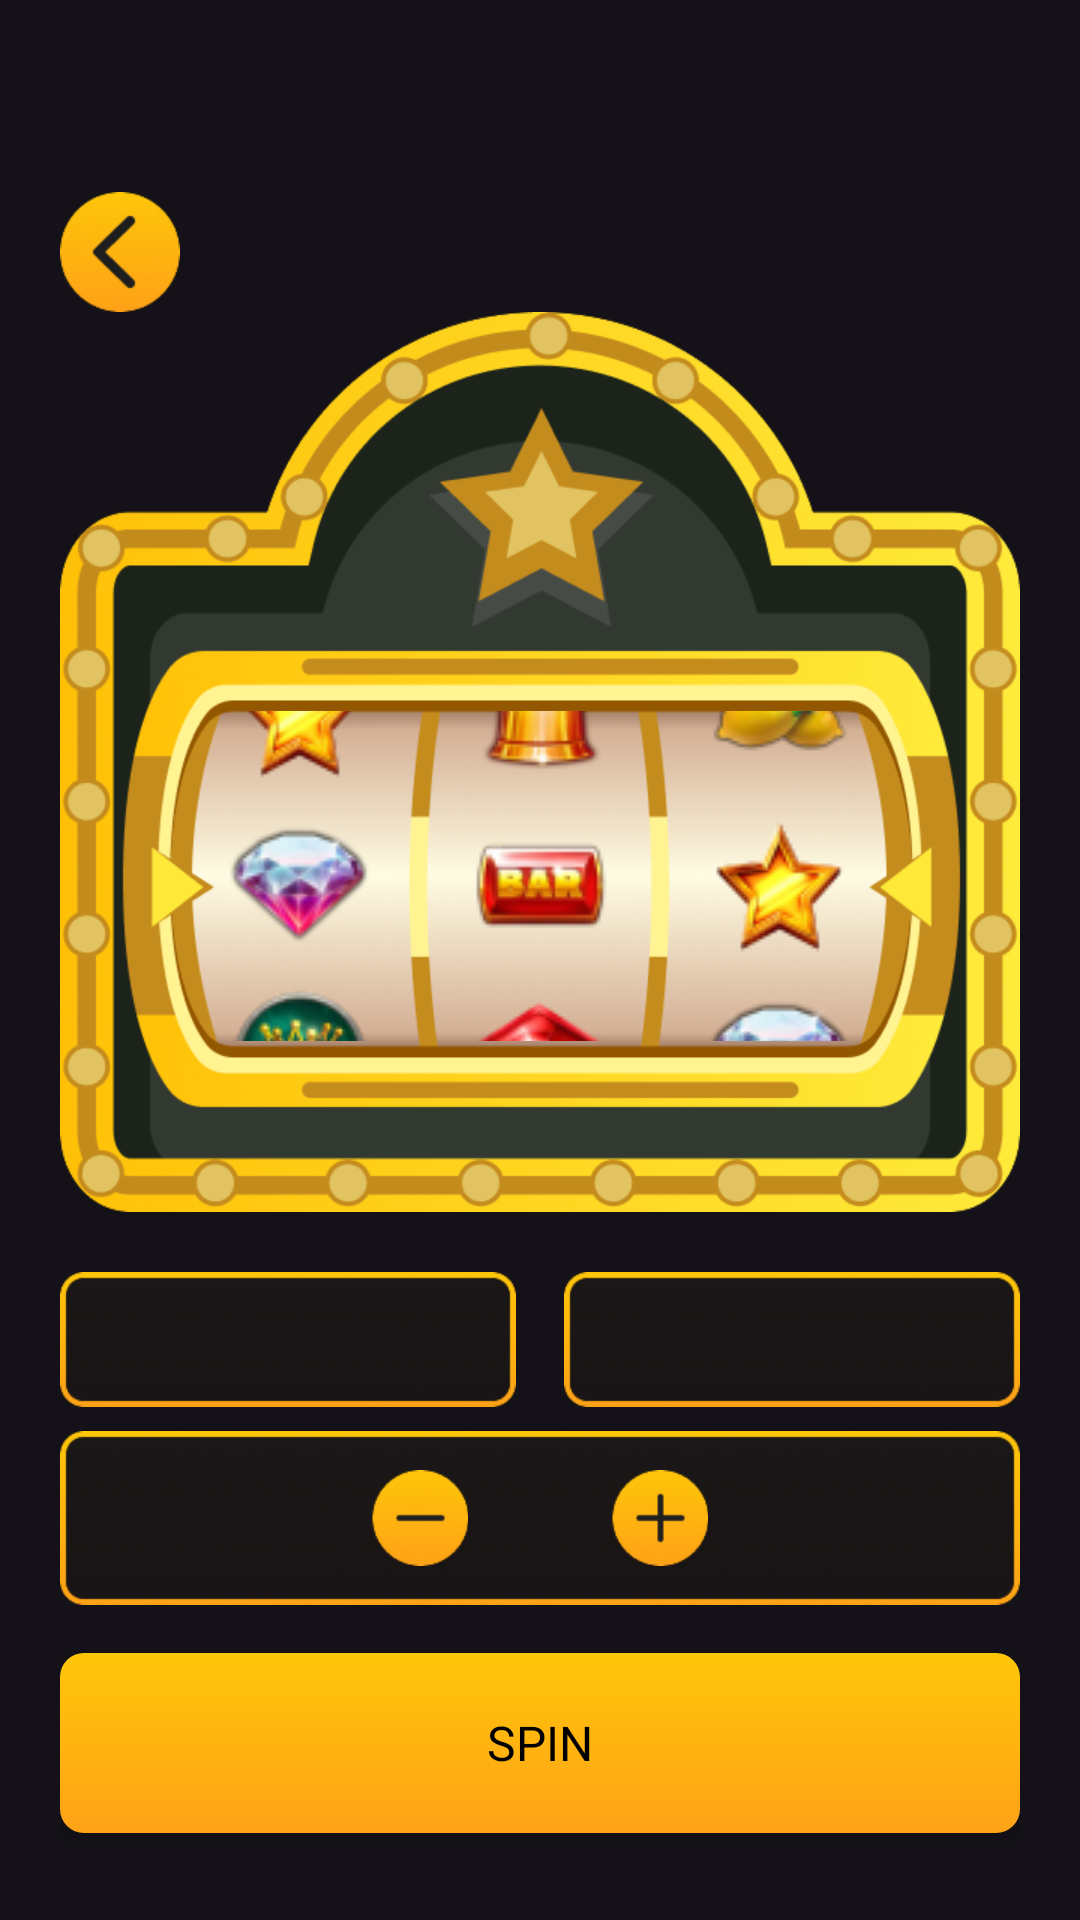

Icon bounding boxes for this 1080x1920 phone screenshot, format (x1, y1, x2, y2):
butt minus: (372, 1470, 468, 1566)
butt plus: (612, 1470, 708, 1566)
ripple butt back: (60, 192, 180, 312)
